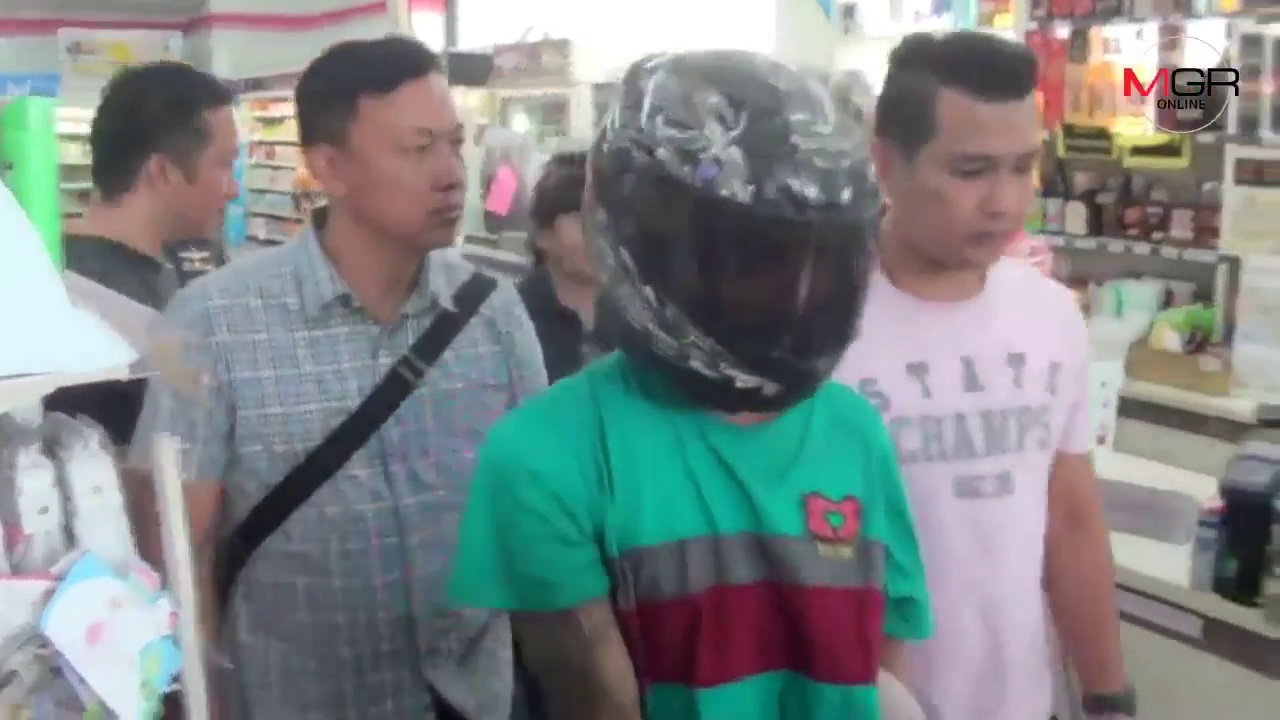helmet: (571, 32, 878, 417)
